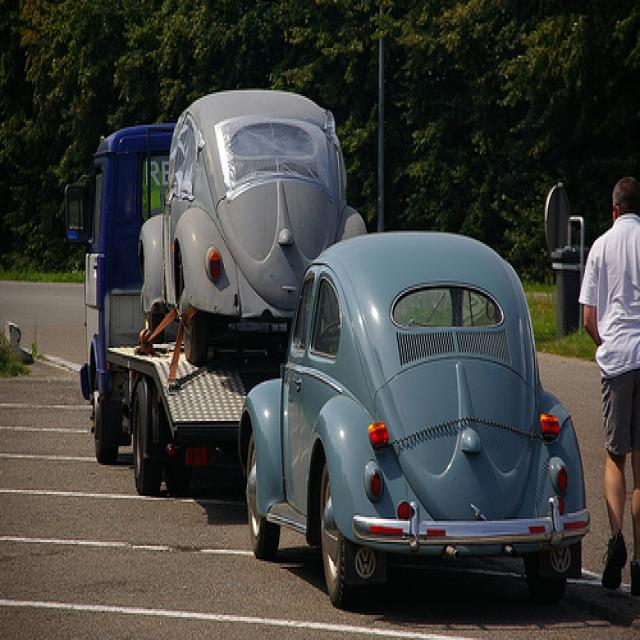light_vehicle: (235, 229, 592, 609), (134, 92, 374, 363)
